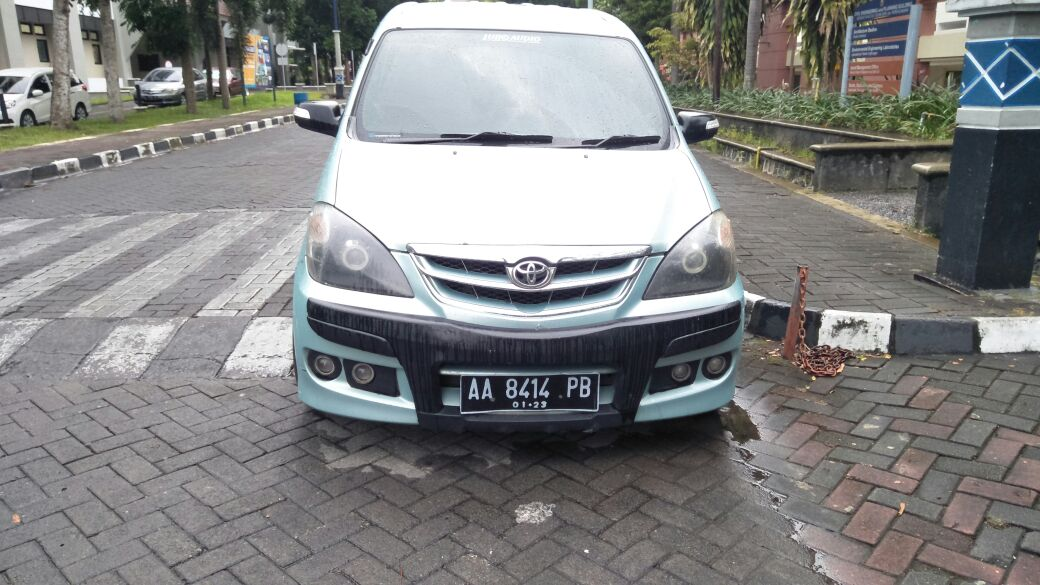plate: (459, 374, 602, 414)
